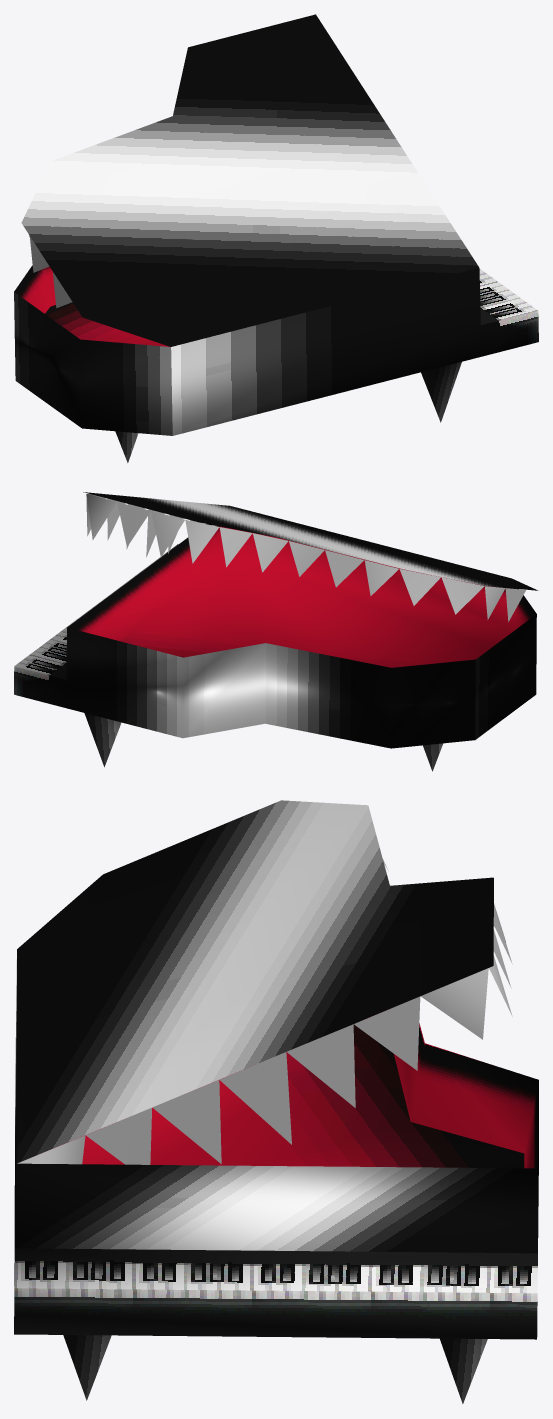
The model's file is spoopy_piano.obj.
3 renders of one model, top to bottom at view 1: azimuth 30°, elevation 25°; view 2: azimuth 150°, elevation 25°; view 3: azimuth 270°, elevation 25°, orthographic. The views are drawn at different scales.
Parts seen in each view (by area): view 1: 5, 6, 2, 1, 4; view 2: 5, 6, 4, 1, 2; view 3: 5, 6, 3, 1, 4.
Part boxes in pixels (box(x1,y1,x2,y2)): 5: box(14, 14, 481, 462); 6: box(14, 265, 169, 346); 2: box(481, 311, 538, 356); 1: box(479, 268, 537, 325); 4: box(29, 235, 72, 308); 5: box(66, 492, 538, 771); 6: box(67, 524, 536, 667); 4: box(86, 494, 525, 621); 1: box(14, 544, 178, 679); 2: box(14, 666, 66, 707); 5: box(14, 800, 538, 1403); 6: box(63, 1018, 538, 1168); 3: box(14, 1288, 537, 1339); 1: box(14, 1248, 537, 1293); 4: box(17, 859, 512, 1164).
Size of the model in its own units: 6.27 by 4.32 by 4.56.
